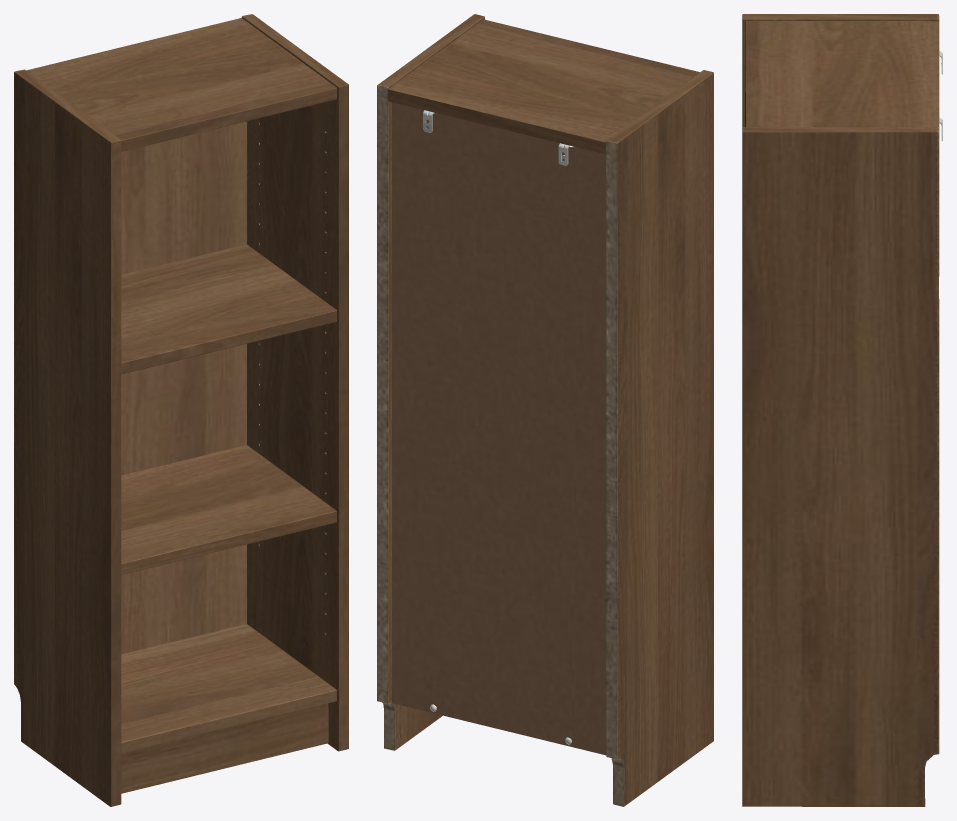
Rendered from 04 - BILLY Bookcase - brown walnut effect 40x28x106 cm.glb.
The picture shows the model from 3 angles, left to right: view 1: azimuth 30°, elevation 25°; view 2: azimuth 150°, elevation 25°; view 3: azimuth 270°, elevation 25°; orthographic projection.
Parts seen in each view (by area): view 1: 10508625-BILLY001; view 2: 10508625-BILLY001; view 3: 10508625-BILLY001.
Boxes of the visible parts, x1=… form: 10508625-BILLY001: x1=14, y1=14, x2=348, y2=806; 10508625-BILLY001: x1=377, y1=14, x2=713, y2=806; 10508625-BILLY001: x1=742, y1=14, x2=942, y2=806.
Bounding box in the file's own units: 0.398 × 1.06 × 0.285.
1 material, 1 textured.
